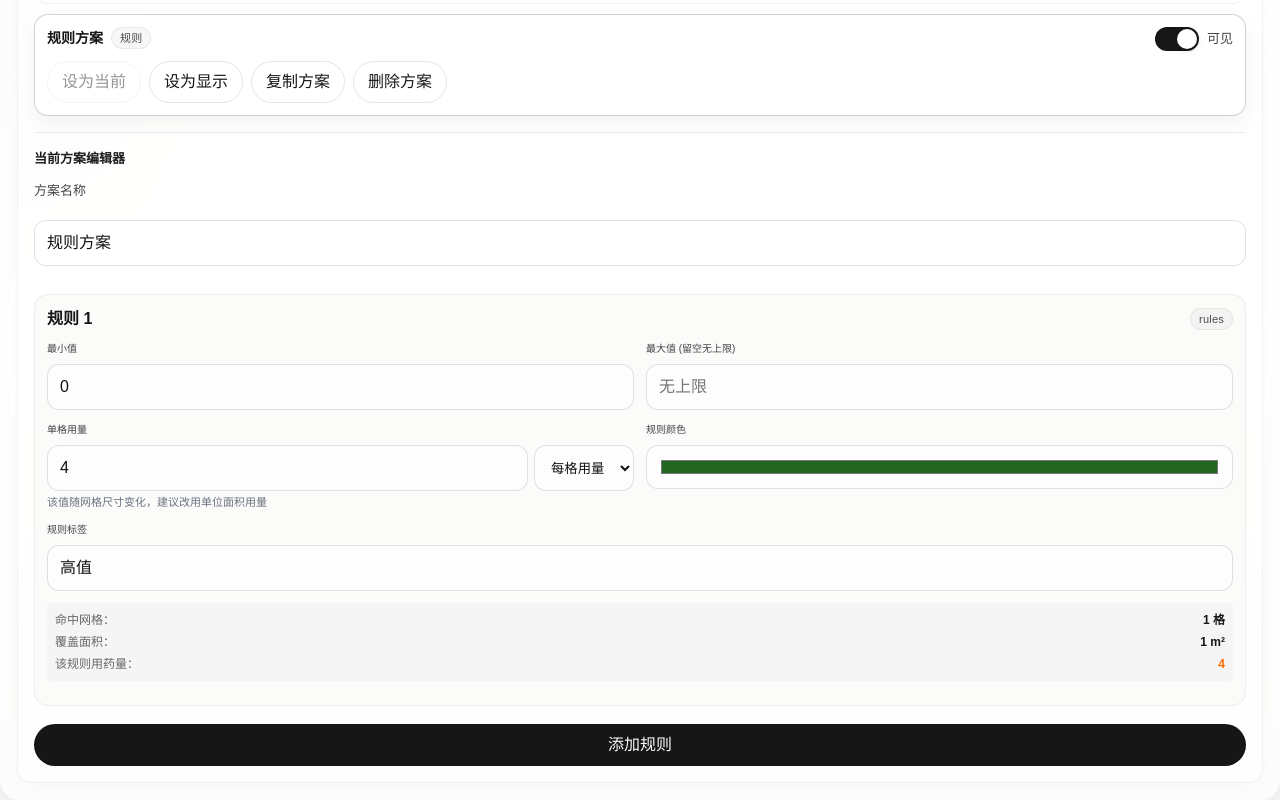
Test: RightPanel › application rate mode › switches a rule to a unit-area rate and previews the per-cell amount
The image size is (1280, 800).
(page scrolled)
Select "每亩" in the dropdown named "规则 1 计量方式" at (584, 468), box [534,445,634,491]
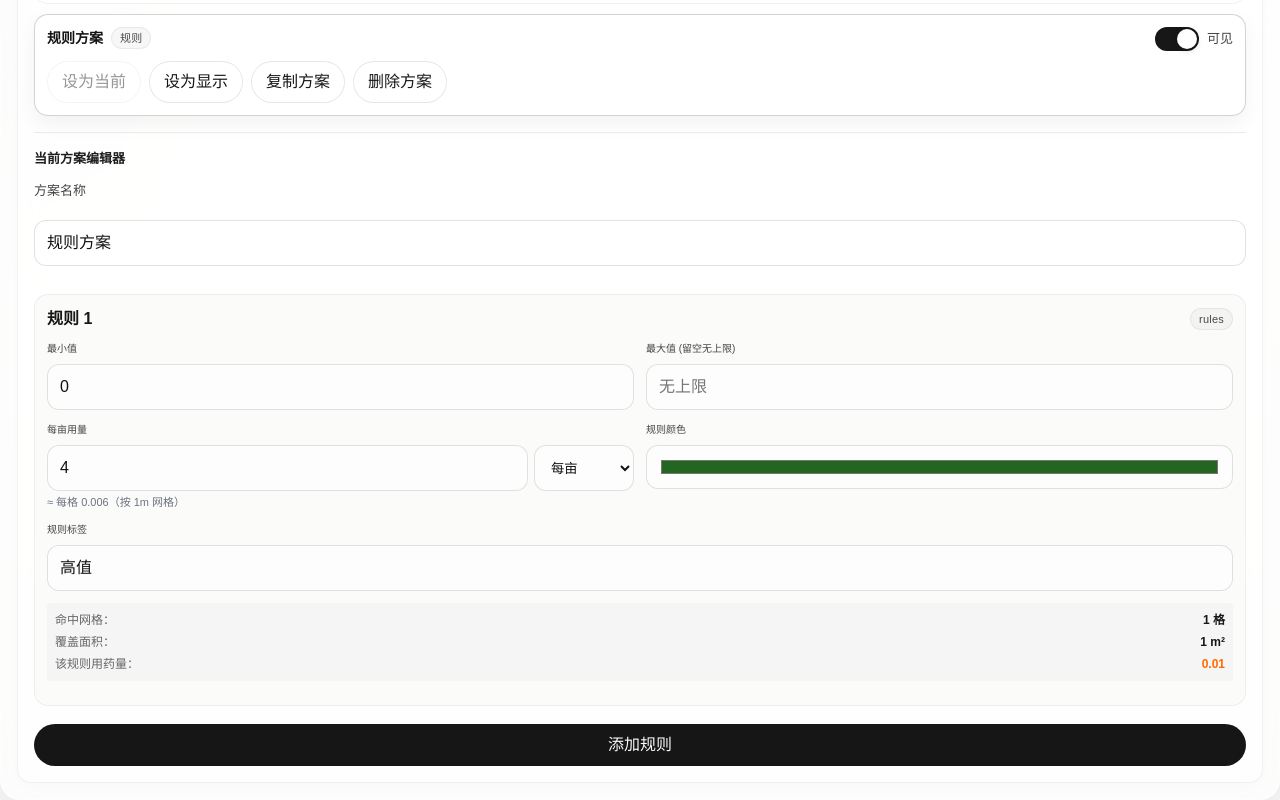
Check: the text "每亩用量" is shown, box [47,424,87,435]
Check: the text "≈ 每格 0.006（按 1m 网格）" is shown, box [47,496,185,508]
